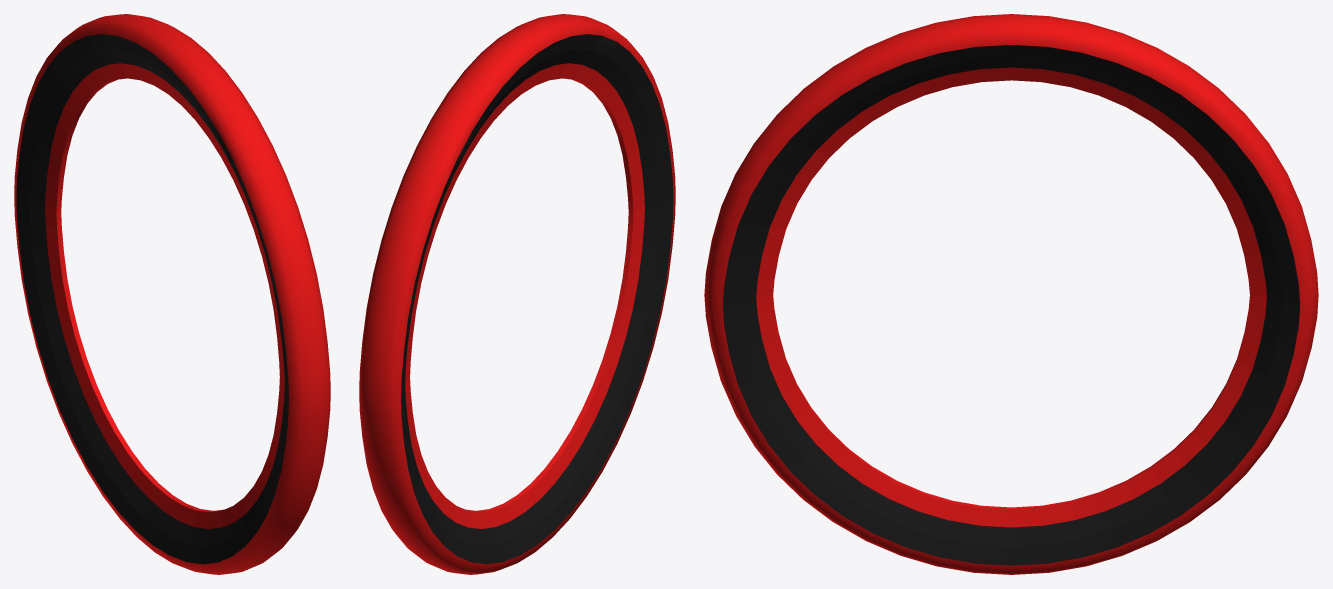
File: RingV3.FBX
The picture shows the model from 3 angles, left to right: view 1: azimuth 30°, elevation 25°; view 2: azimuth 150°, elevation 25°; view 3: azimuth 270°, elevation 25°; orthographic projection. The views are drawn at different scales.
Visible parts, largest first — view 1: Torus007; view 2: Torus007; view 3: Torus007.
Part boxes in pixels (x1,y1,x2,y2): Torus007: [14, 14, 330, 574]; Torus007: [359, 14, 675, 574]; Torus007: [704, 14, 1318, 574].
Size of the model in its own units: 199 by 2473 by 2484.
